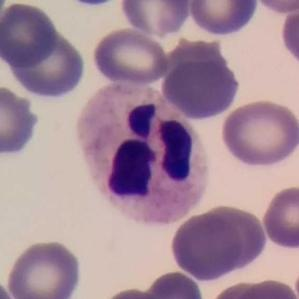Neutrophil: (69, 73, 218, 233)
RBC: (3, 16, 89, 103), (168, 206, 246, 282), (159, 51, 242, 122), (218, 98, 299, 170), (196, 202, 269, 278), (3, 237, 84, 299), (89, 27, 170, 87), (0, 0, 58, 69), (0, 82, 43, 161), (119, 0, 193, 39), (186, 0, 260, 38), (260, 183, 299, 252), (138, 268, 206, 299), (231, 276, 299, 299), (277, 0, 299, 71), (206, 279, 277, 299), (94, 285, 174, 299), (250, 0, 298, 15), (66, 0, 121, 10), (0, 274, 20, 299)
